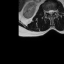CCS_normal: (50, 8, 52, 17)
LFS_normal: (54, 8, 56, 14)
LLS_normal: (52, 8, 54, 15)
RFS_normal: (45, 8, 48, 14)
RLS_normal: (48, 8, 50, 14)
